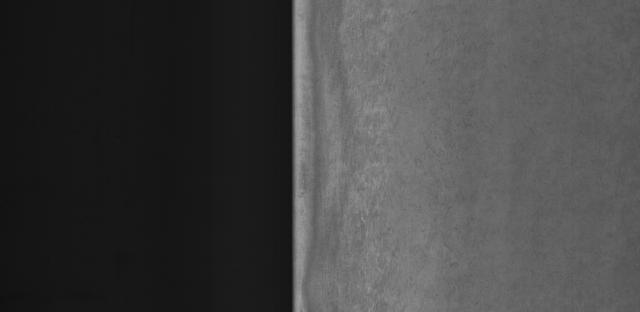silk_spot: (324, 23, 428, 303)
